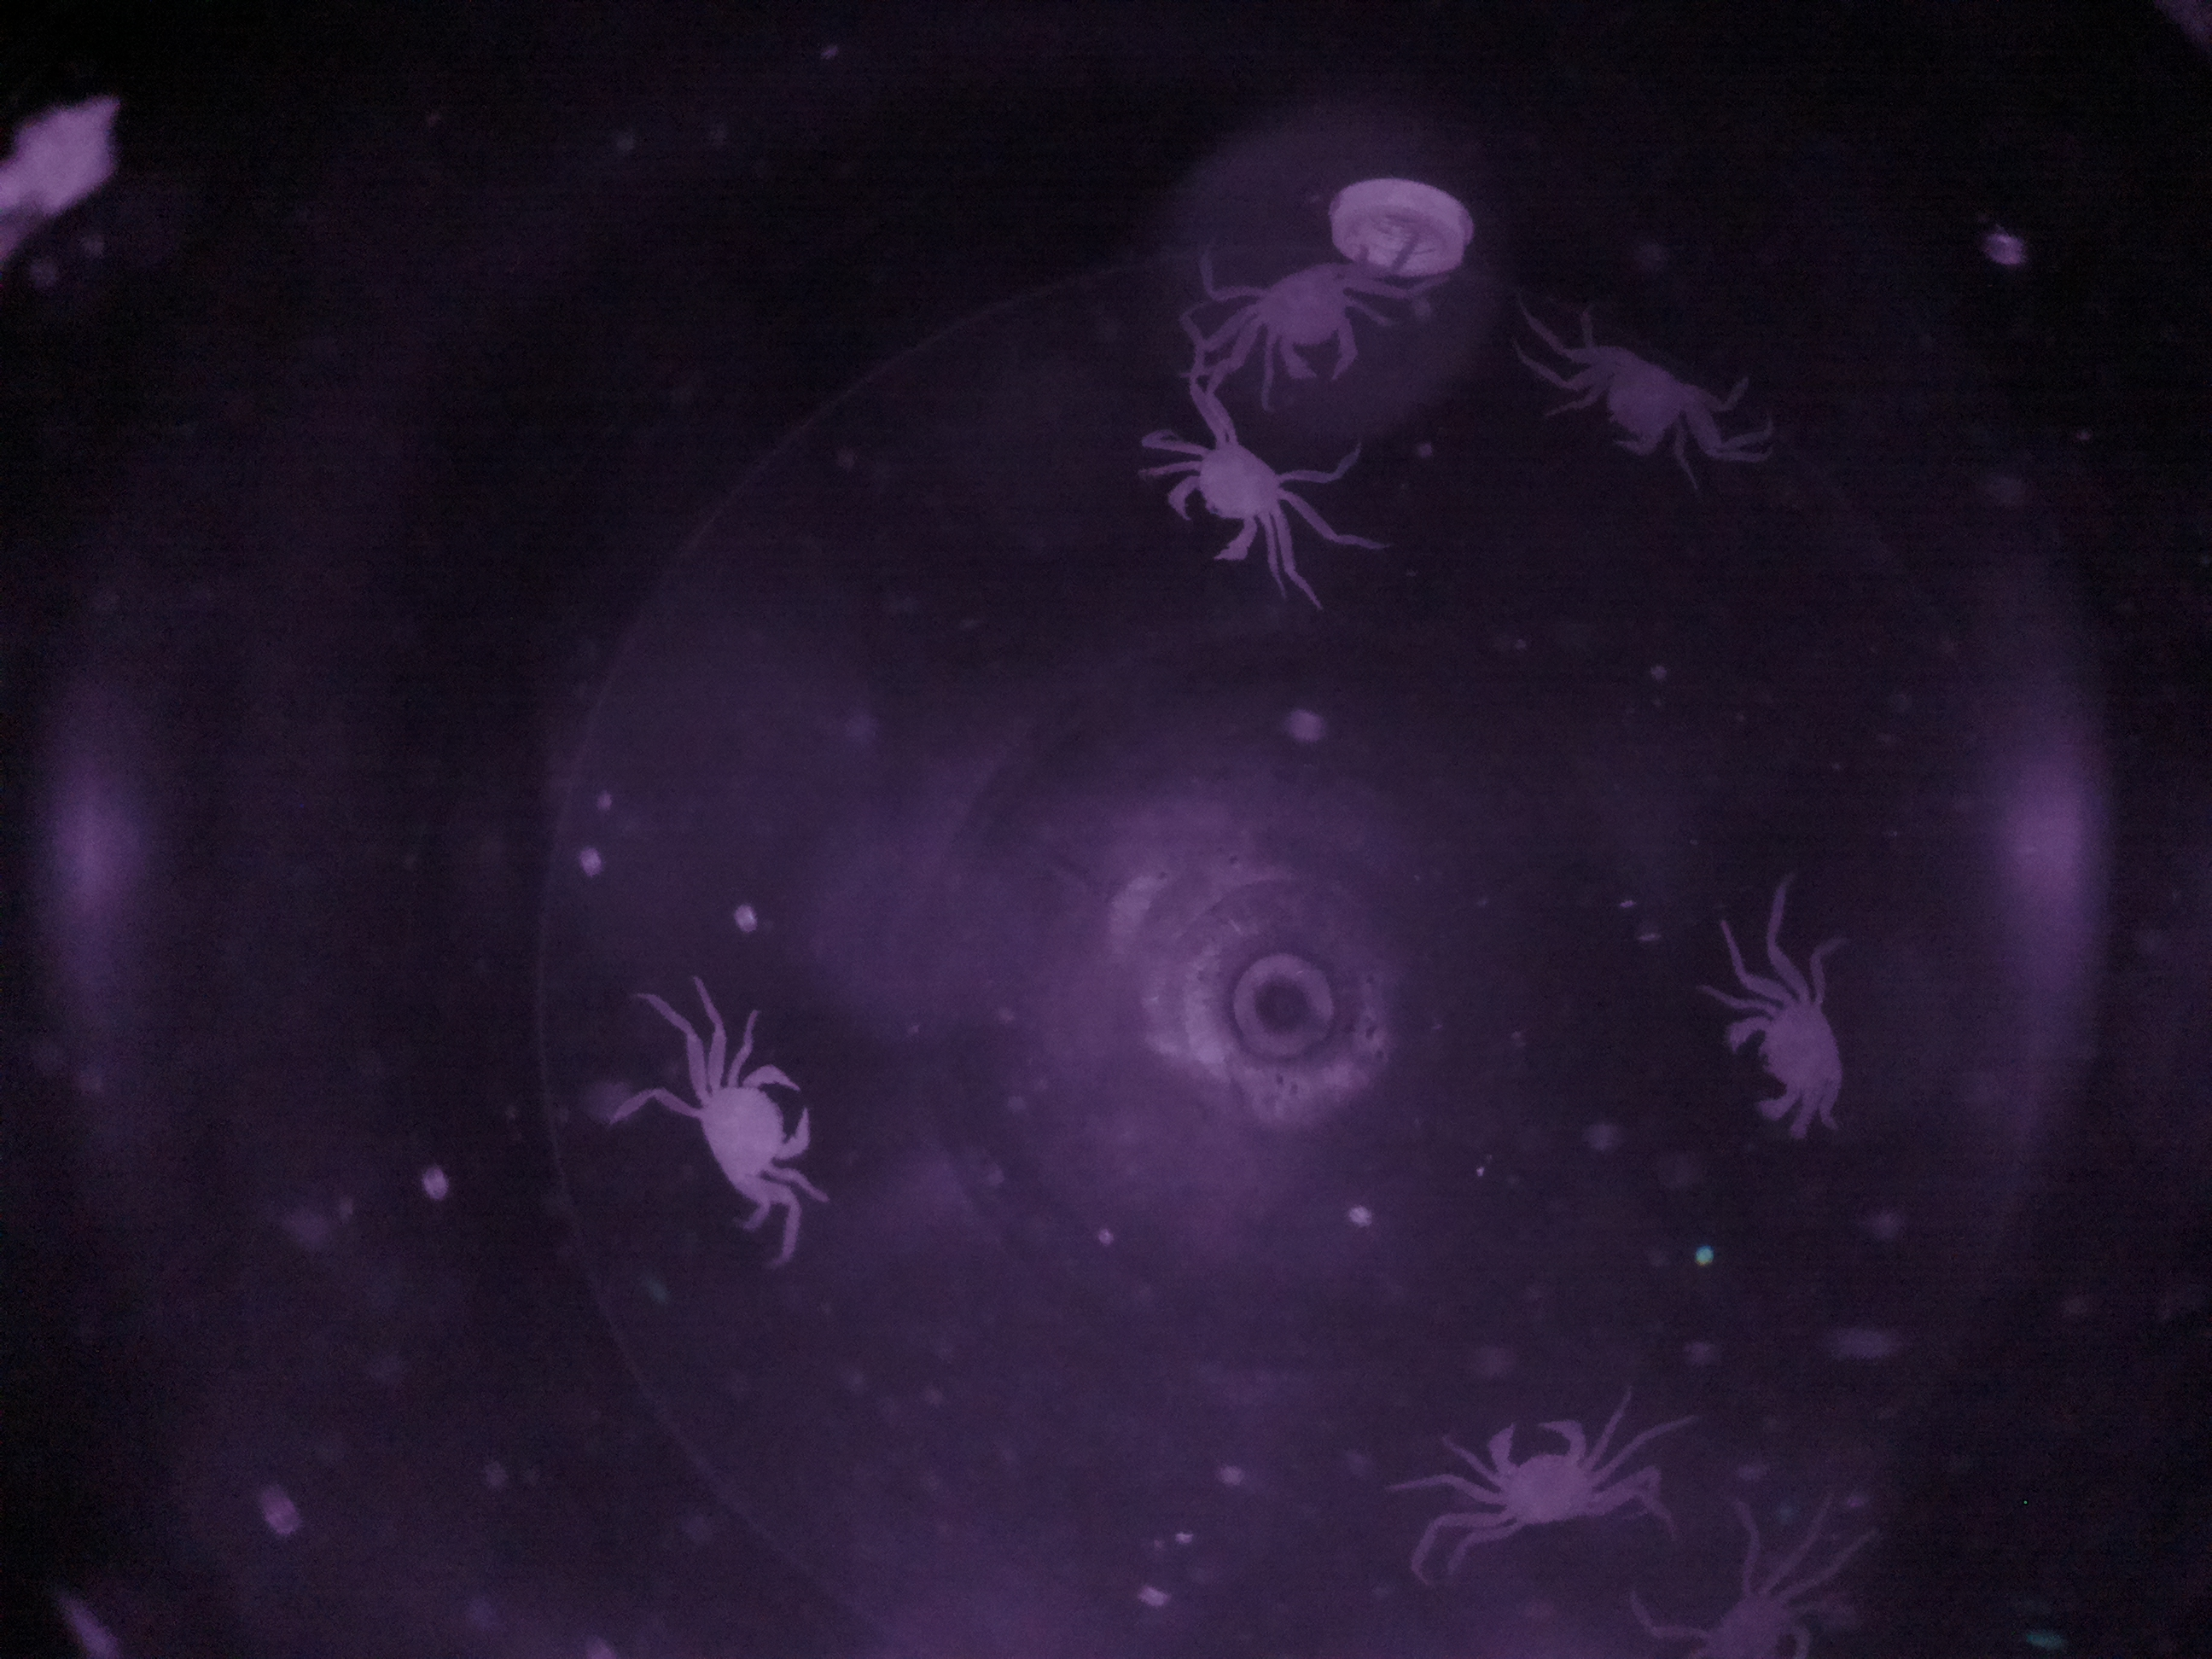Crab: (1714, 958, 1876, 1140), (667, 1042, 820, 1227), (1157, 404, 1308, 589), (1456, 1394, 1618, 1561), (1226, 242, 1379, 404)
